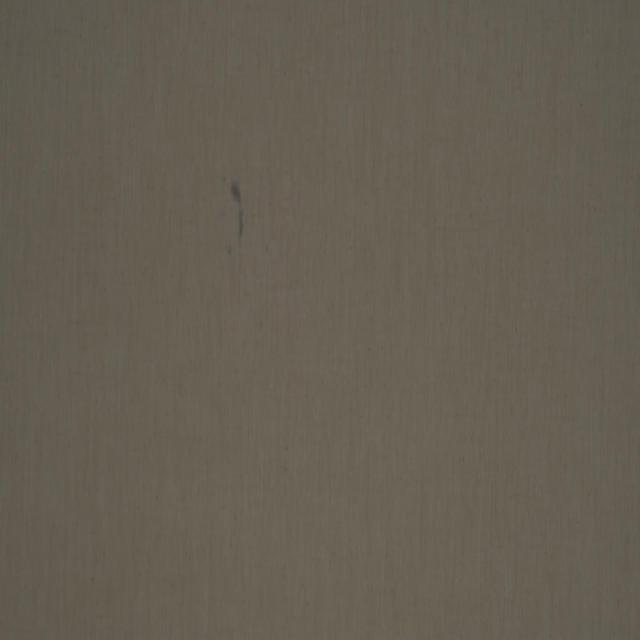dirty: (222, 172, 244, 256)
